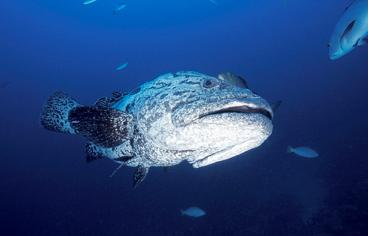Serranidae -Groupers-: (39, 66, 274, 189)
